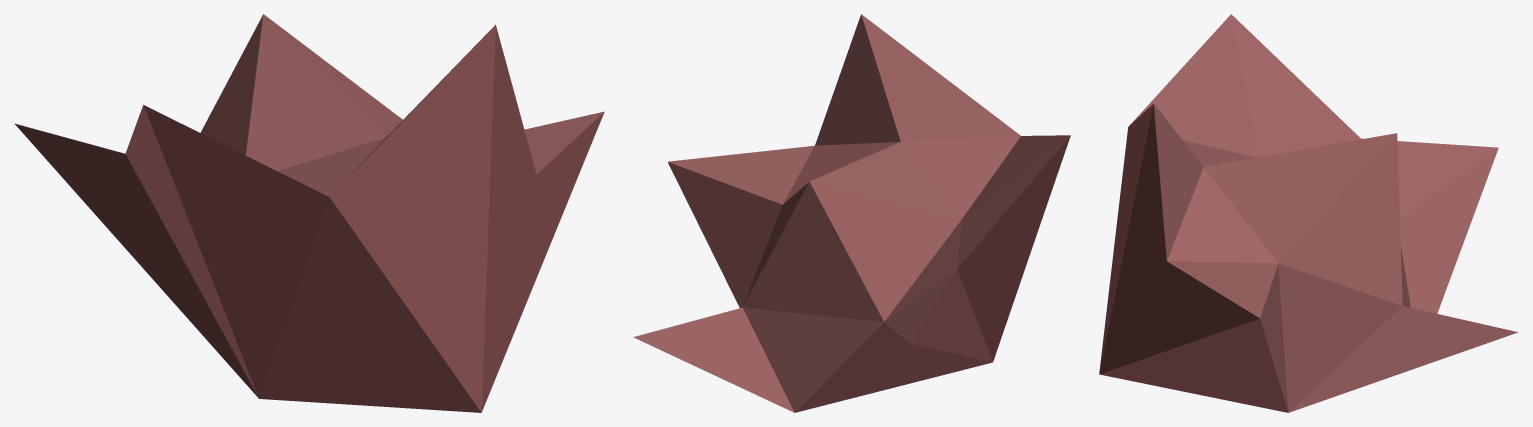
Rendered from BushAutumn1_Alt1.fbx.
3 renders of one model, left to right at view 1: azimuth 30°, elevation 25°; view 2: azimuth 150°, elevation 25°; view 3: azimuth 270°, elevation 25°, orthographic. The views are drawn at different scales.
Parts seen in each view (by area): view 1: BushAutumn1_Alt1; view 2: BushAutumn1_Alt1; view 3: BushAutumn1_Alt1.
Boxes of the visible parts, left/top/right/bottom form: BushAutumn1_Alt1: left=15, top=14, right=604, bottom=412; BushAutumn1_Alt1: left=633, top=14, right=1070, bottom=412; BushAutumn1_Alt1: left=1099, top=14, right=1518, bottom=412.
Bounding box in the file's own units: 0.6828 × 0.4811 × 0.6299.
